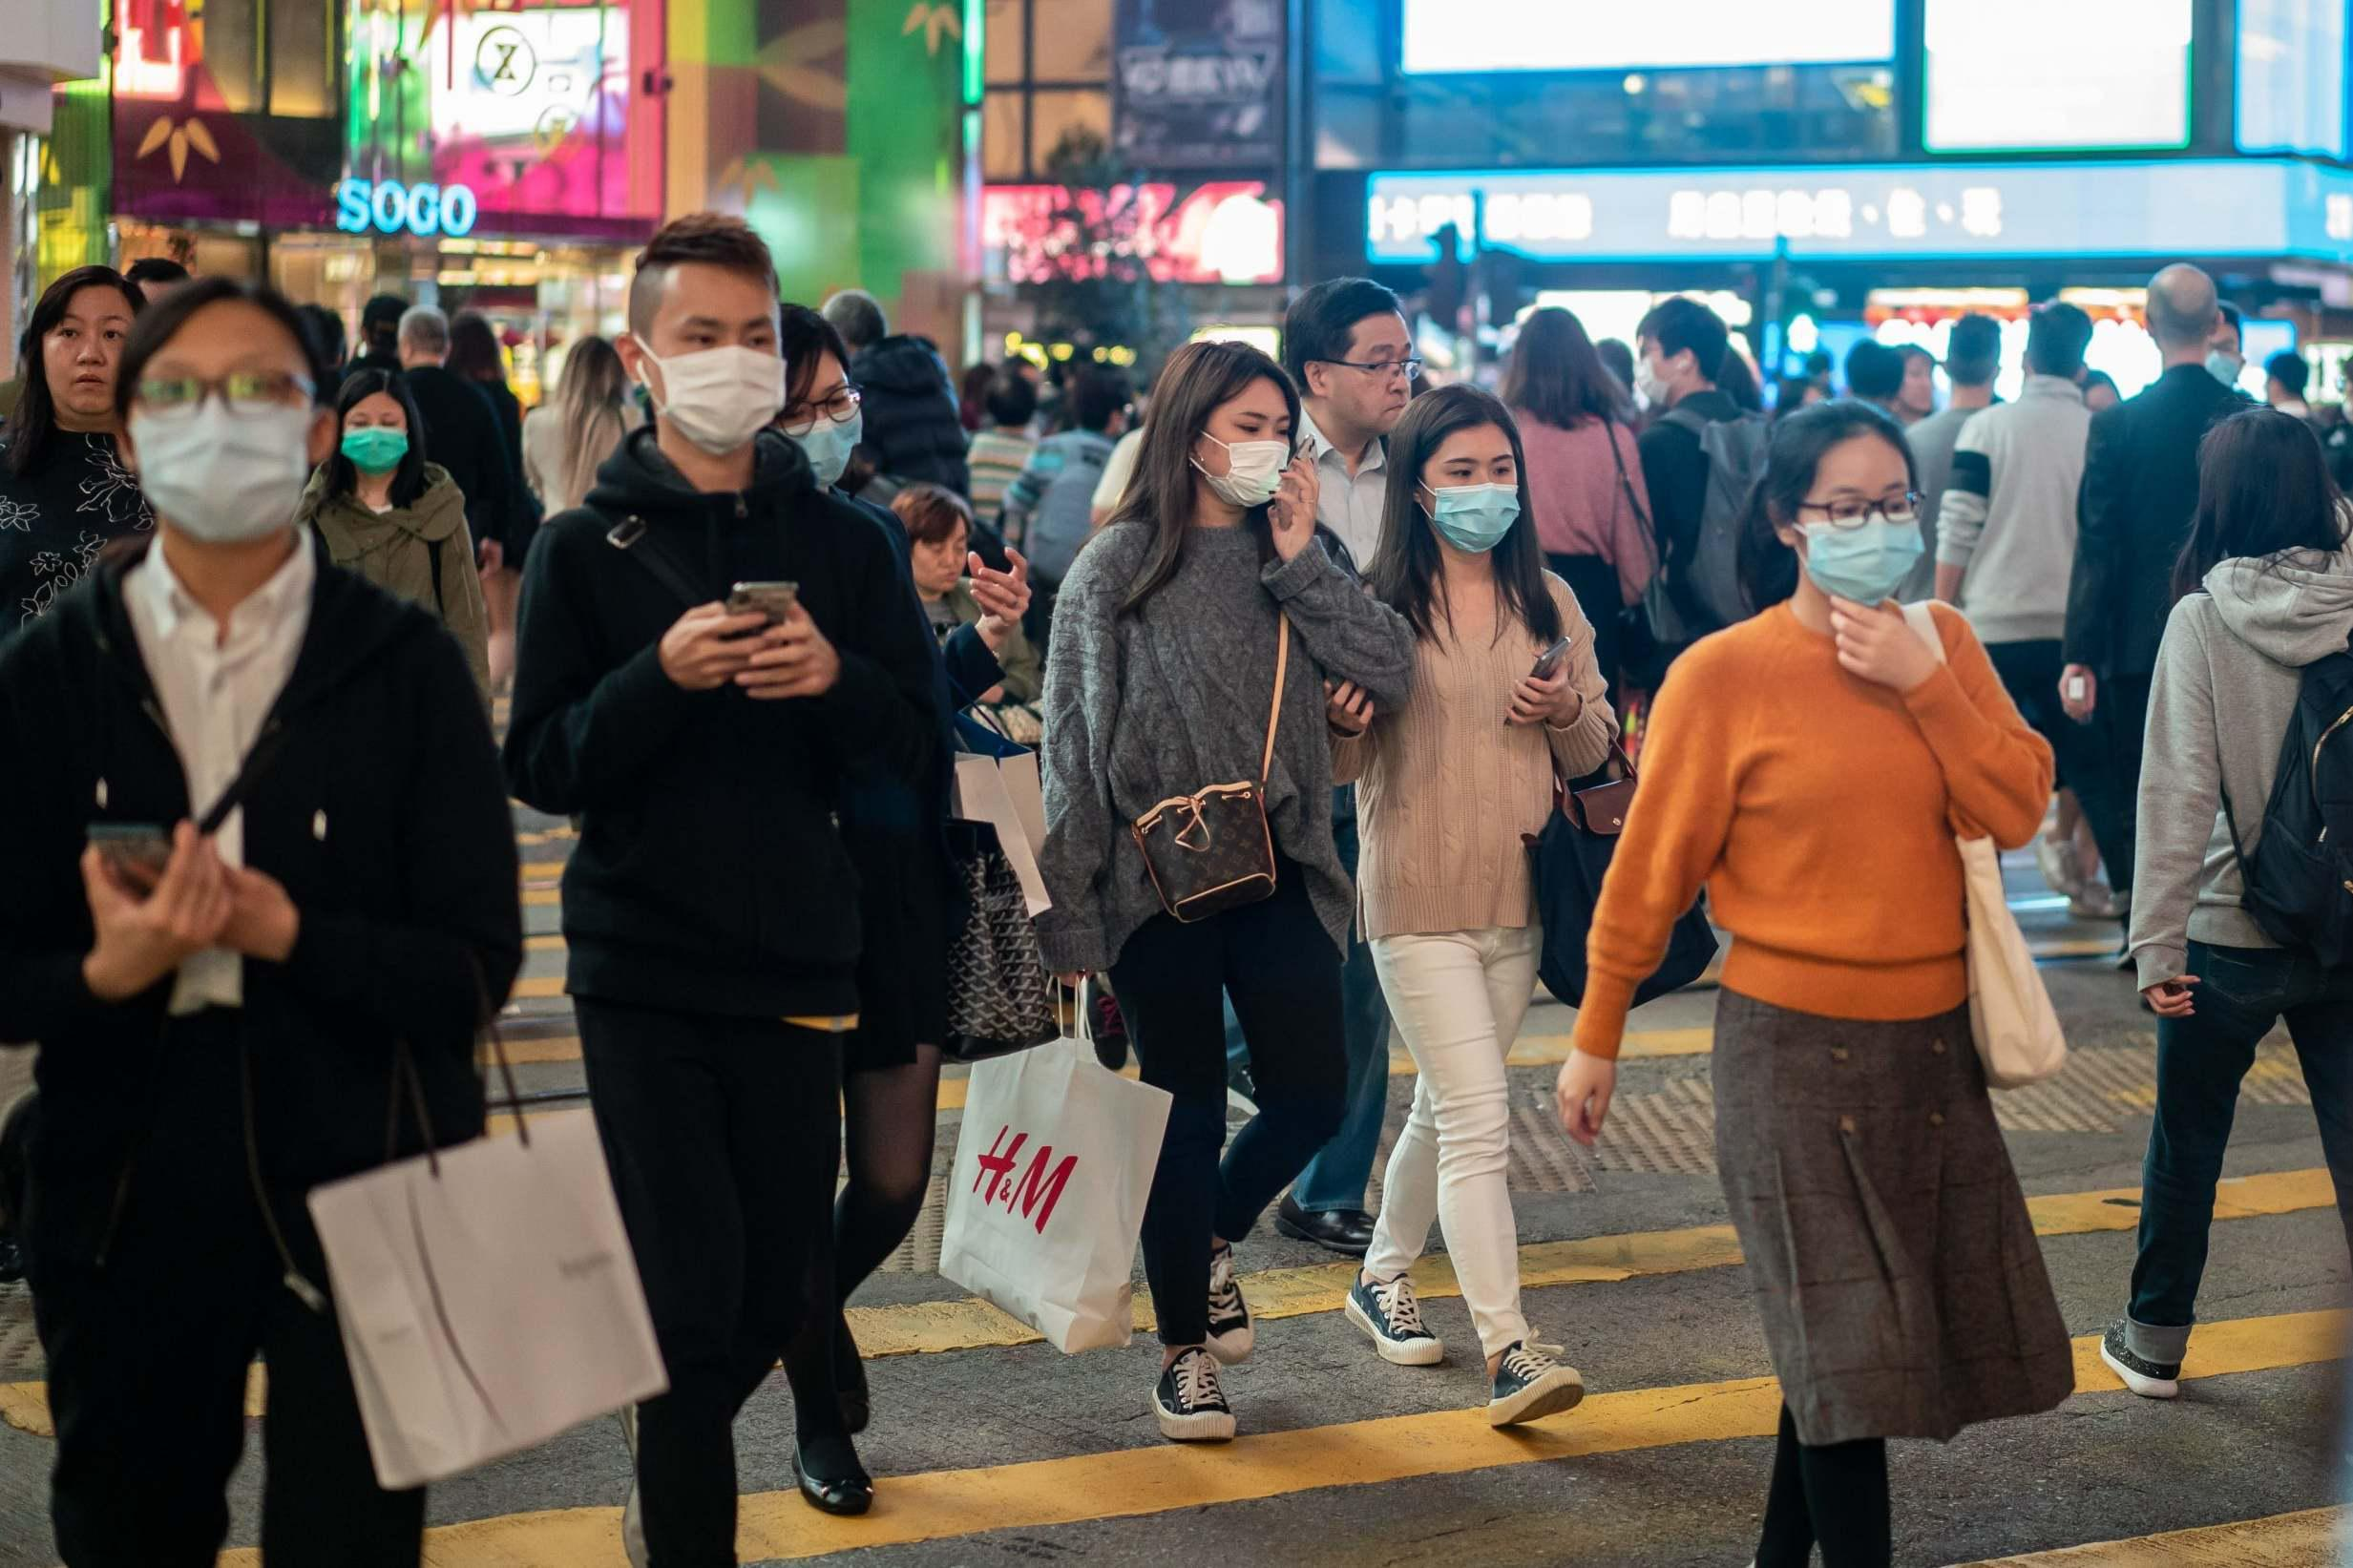mask: (149, 339, 310, 546), (649, 292, 780, 443), (1798, 467, 1924, 607), (1424, 439, 1526, 553), (1205, 404, 1298, 514), (784, 367, 864, 480), (339, 399, 406, 467), (1632, 339, 1686, 408), (2201, 336, 2245, 387)
none: (40, 299, 138, 420), (1326, 329, 1414, 441), (908, 530, 971, 590)
